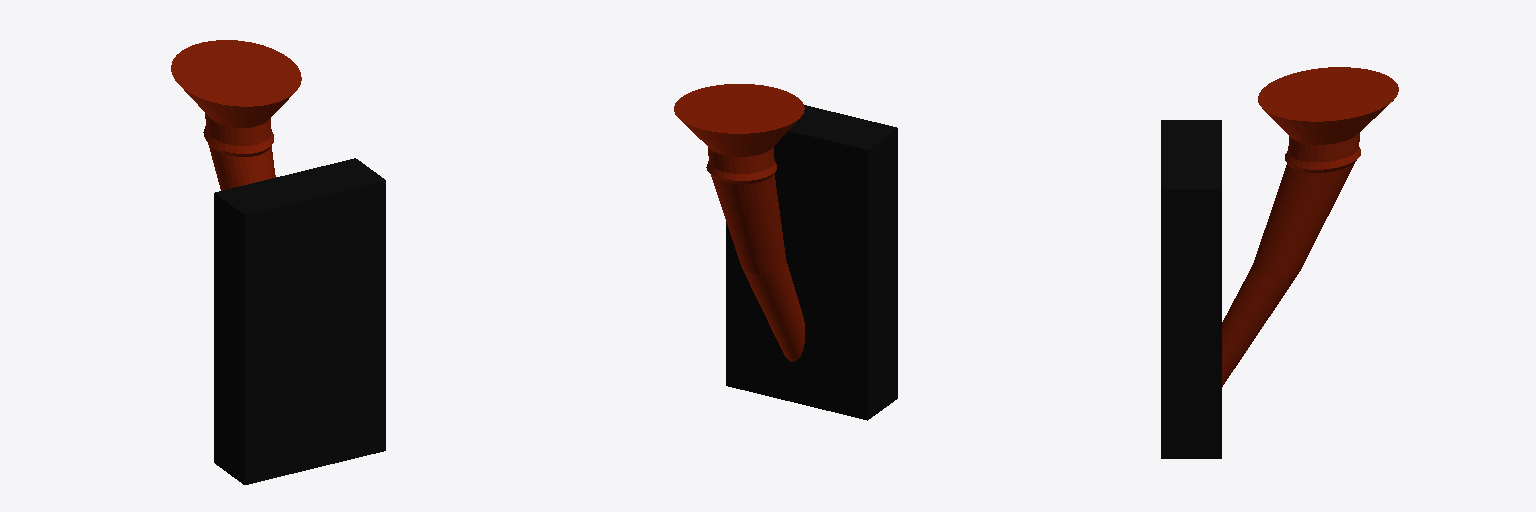
Rendered from wall_torch.obj.
3 views of the same model, side by side, from view 1: azimuth 30°, elevation 25°; view 2: azimuth 150°, elevation 25°; view 3: azimuth 270°, elevation 25° (orthographic).
Parts seen in each view (by area): view 1: Cube_Cube.001, Cylinder_Cylinder.020; view 2: Cube_Cube.001, Cylinder_Cylinder.020; view 3: Cube_Cube.001, Cylinder_Cylinder.020.
Part boxes in pixels (x1,y1,x2,y2): Cube_Cube.001: (214, 158, 385, 484); Cylinder_Cylinder.020: (171, 40, 301, 190); Cube_Cube.001: (726, 105, 897, 420); Cylinder_Cylinder.020: (674, 84, 804, 361); Cube_Cube.001: (1161, 120, 1221, 458); Cylinder_Cylinder.020: (1222, 67, 1398, 386).
Size of the model in its own units: 2 by 4.54 by 2.91.